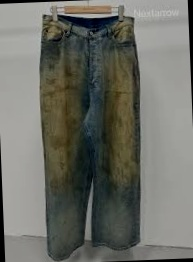earth: (105, 72, 134, 176), (46, 78, 72, 185)
